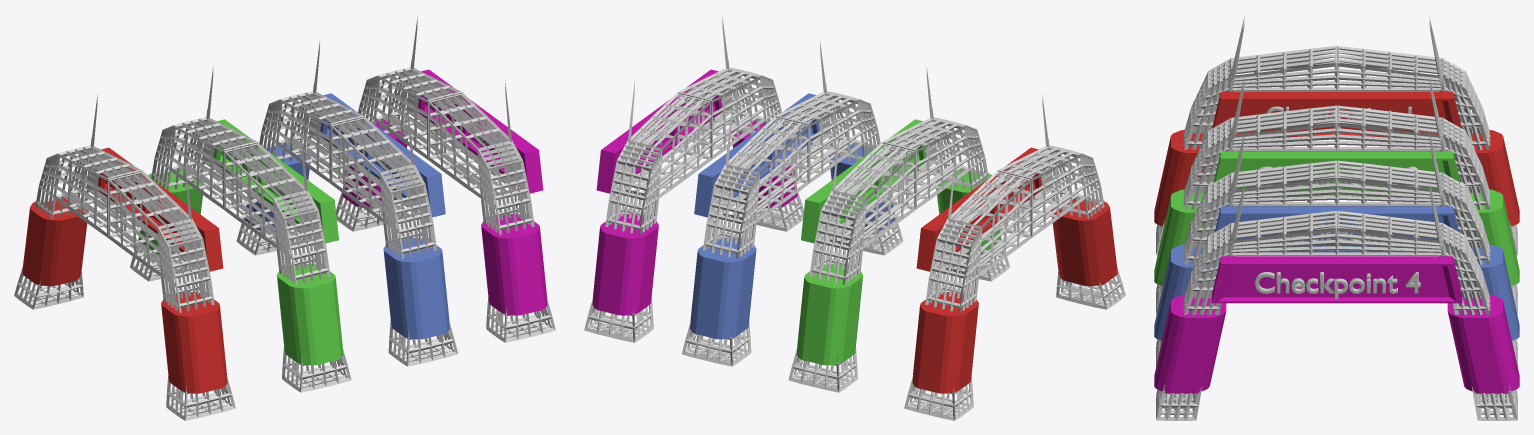
The model's file is Karts_Checkpoints.fbx.
3 views of the same model, side by side, from view 1: azimuth 30°, elevation 25°; view 2: azimuth 150°, elevation 25°; view 3: azimuth 270°, elevation 25° (orthographic). The views are drawn at different scales.
Parts seen in each view (by area): view 1: Cube, Cube.004, Cube.008, Cube.009; view 2: Cube, Cube.004, Cube.008, Cube.009; view 3: Cube.009, Cube, Cube.004, Cube.008.
Boxes of the visible parts, box(x1,y1,x2,y2) form: Cube: box(14, 95, 235, 420); Cube.004: box(130, 67, 351, 392); Cube.008: box(236, 41, 457, 366); Cube.009: box(336, 17, 555, 342); Cube: box(904, 95, 1125, 420); Cube.004: box(788, 67, 1009, 392); Cube.008: box(682, 41, 903, 366); Cube.009: box(584, 17, 803, 342); Cube.009: box(1154, 181, 1519, 420); Cube: box(1154, 16, 1519, 255); Cube.004: box(1154, 76, 1519, 314); Cube.008: box(1154, 131, 1519, 366).
Bounding box in the file's own units: 1695 × 949 × 1320.
